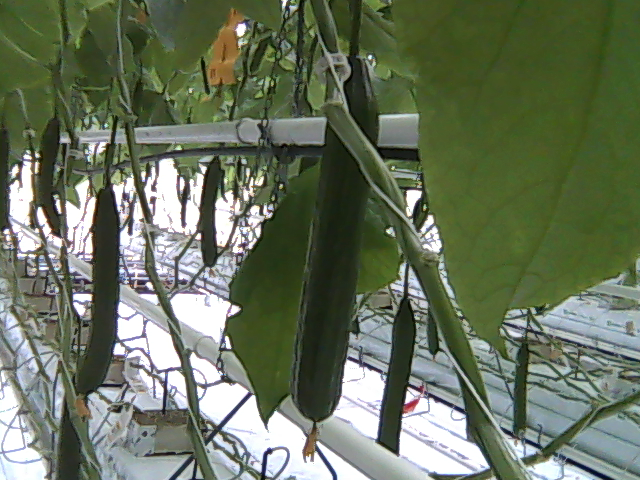concombre: (287, 53, 381, 465), (71, 178, 125, 423)
